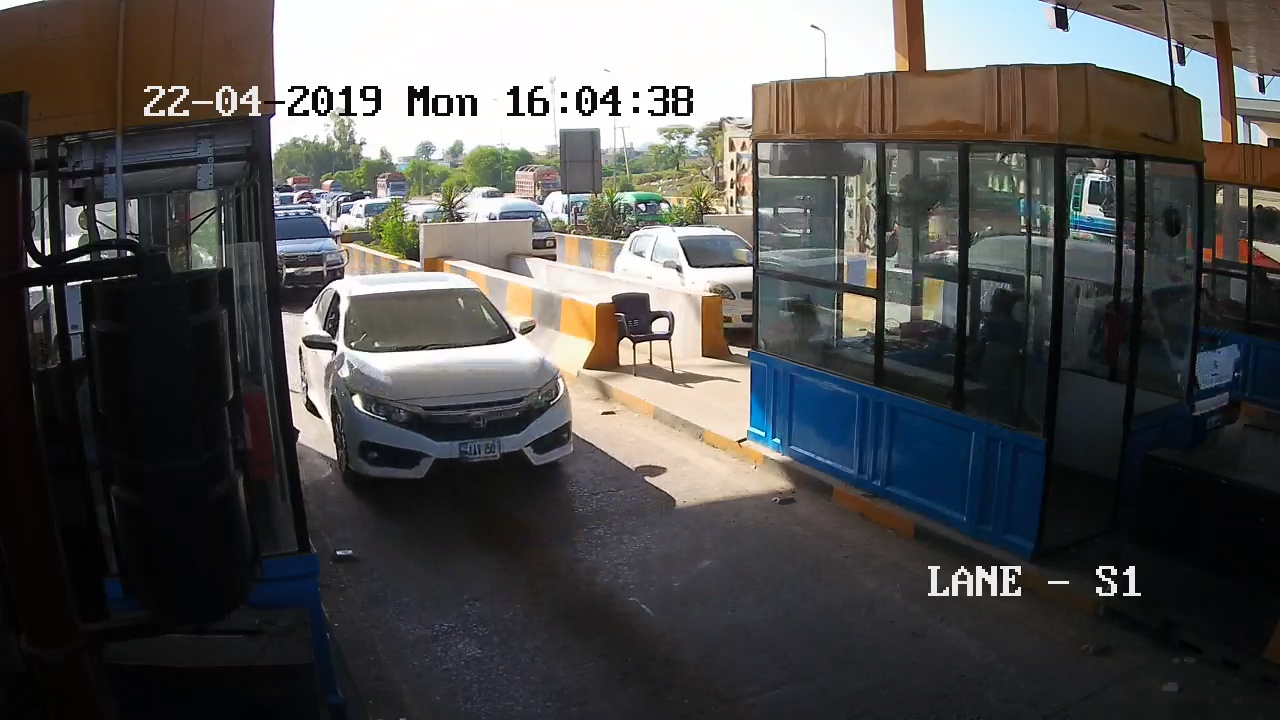Number Plate (Car): (456, 438, 503, 462)
